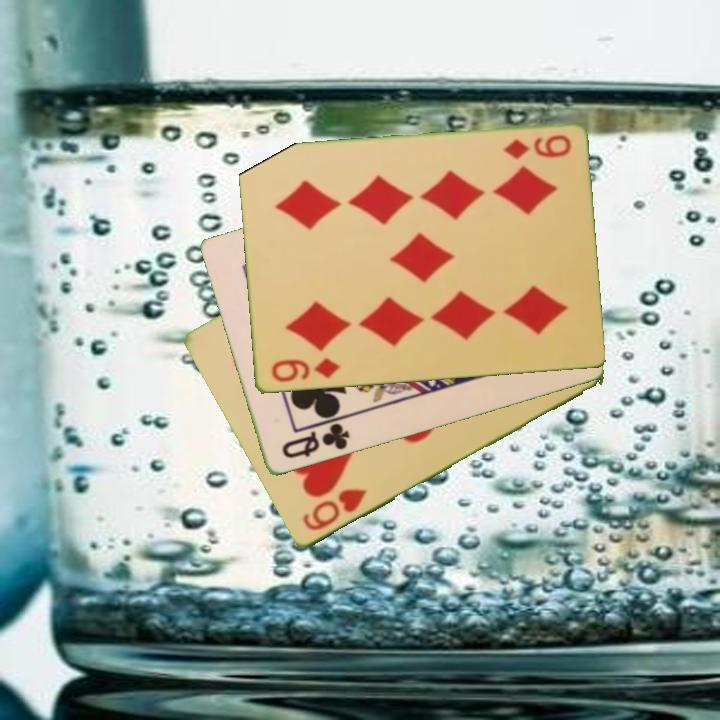6h: (298, 485, 370, 535)
9d: (500, 131, 574, 163), (267, 355, 342, 385)
Qc: (278, 420, 353, 462)
